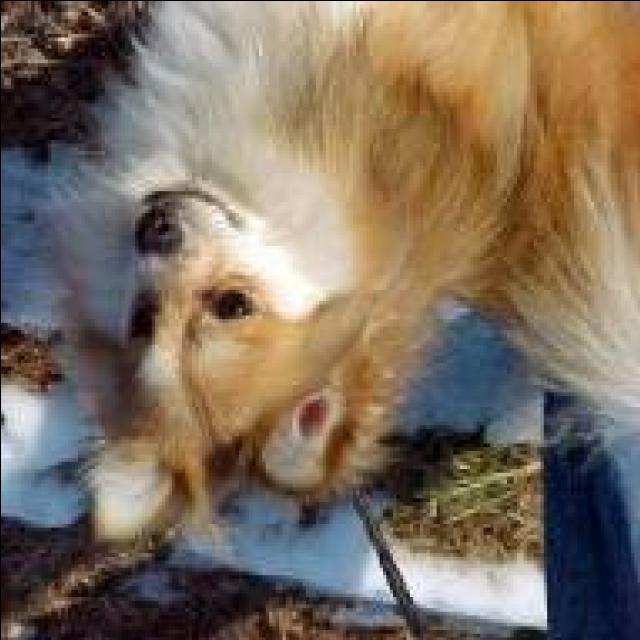dog: (53, 0, 640, 554)
